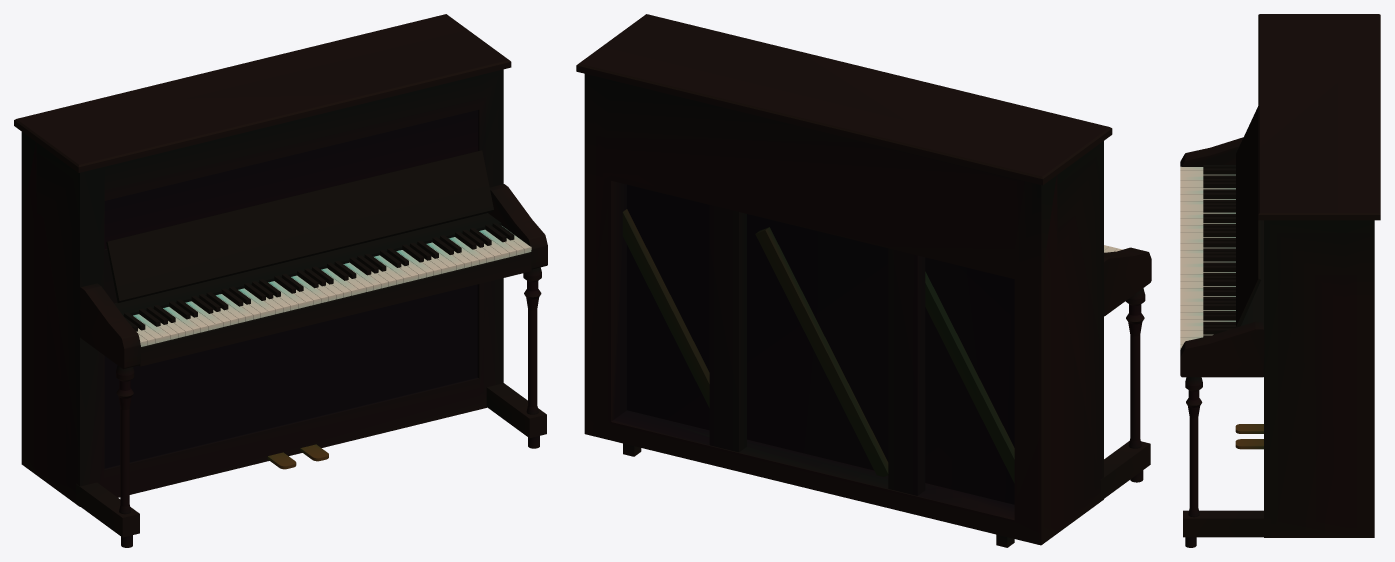
3 renders of one model, left to right at view 1: azimuth 30°, elevation 25°; view 2: azimuth 150°, elevation 25°; view 3: azimuth 270°, elevation 25°, orthographic. The views are drawn at different scales.
Parts seen in each view (by area): view 1: case, lid, sloped_front, keybed, cheek.001, cheek, rail.001, rail, turned_leg.001, turned_leg; view 2: case, lid, diagonal.001, diagonal, diagonal.002, cheek.001, turned_leg.001, rail.001; view 3: case, lid, sloped_front, cheek, rail, turned_leg, cheek.001, keybed, pedal, pedal.003.
Boxes of the visible parts, x1,y1,x2,y2 form: case: [21, 69, 503, 506]; lid: [14, 14, 511, 172]; sloped_front: [106, 150, 493, 302]; keybed: [114, 213, 531, 366]; cheek.001: [79, 283, 140, 369]; cheek: [488, 184, 547, 269]; rail.001: [76, 482, 139, 547]; rail: [486, 383, 546, 448]; turned_leg.001: [116, 365, 134, 514]; turned_leg: [523, 267, 541, 414]; case: [584, 74, 1103, 545]; lid: [576, 14, 1112, 185]; diagonal.001: [755, 227, 888, 476]; diagonal: [925, 271, 1014, 483]; diagonal.002: [622, 209, 709, 407]; cheek.001: [1103, 247, 1151, 316]; turned_leg.001: [1125, 288, 1145, 448]; rail.001: [1100, 441, 1150, 501]; case: [1264, 220, 1374, 537]; lid: [1258, 14, 1380, 220]; sloped_front: [1236, 106, 1261, 327]; cheek: [1180, 321, 1264, 377]; rail: [1183, 510, 1271, 547]; turned_leg: [1185, 377, 1202, 517]; cheek.001: [1180, 137, 1243, 166]; keybed: [1241, 220, 1263, 325]; pedal: [1235, 439, 1263, 449]; pedal.003: [1235, 424, 1263, 433].
Size of the model in its own units: 1.5 by 1.18 by 0.6335.
